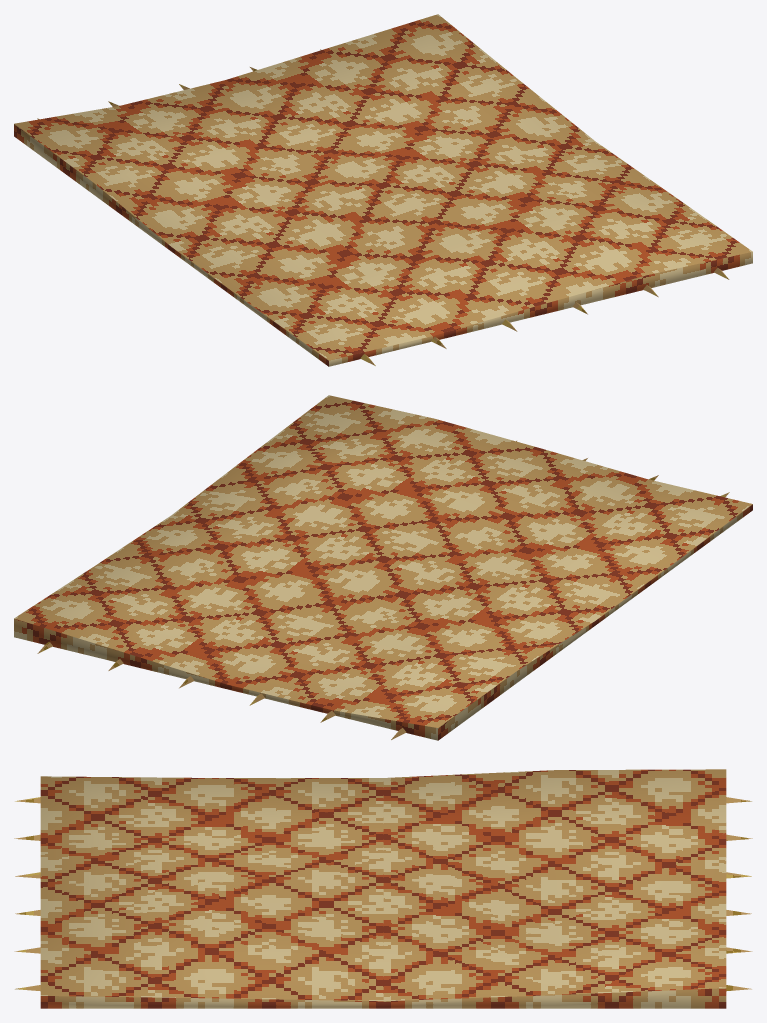
Rendered from soft.blanket.glb.
3 views of the same model, one above another, from view 1: azimuth 30°, elevation 25°; view 2: azimuth 150°, elevation 25°; view 3: azimuth 270°, elevation 25° (orthographic). The views are drawn at different scales.
Parts seen in each view (by area): view 1: kit_blanket; view 2: kit_blanket; view 3: kit_blanket, kit_blanket_fringe.
Part boxes in pixels (x1,y1,x2,y2): kit_blanket: (14,14,752,366); kit_blanket: (14,395,752,740); kit_blanket: (40,769,726,1008); kit_blanket_fringe: (14,797,752,991).
Bounding box in the file's own units: 1.4 × 0.0593 × 1.94.
Materials: 2 (2 with a texture image).
